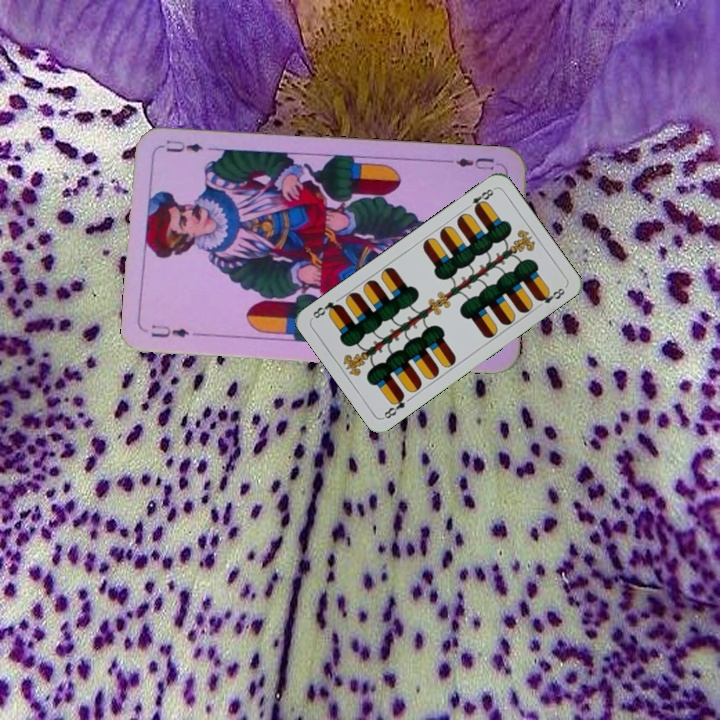E8: (462, 184, 497, 214), (379, 390, 408, 421)
EU: (446, 153, 505, 173), (147, 320, 191, 340)
